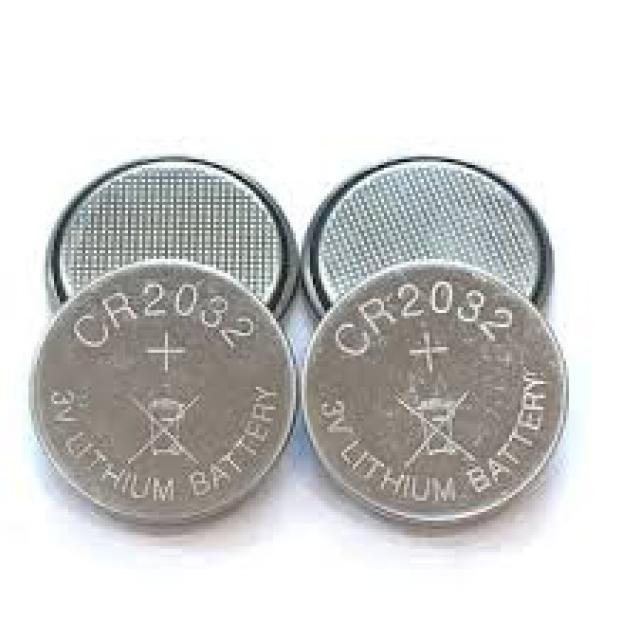hazardous waste: (304, 264, 569, 512), (31, 264, 293, 514), (48, 159, 299, 290), (307, 156, 549, 262)
